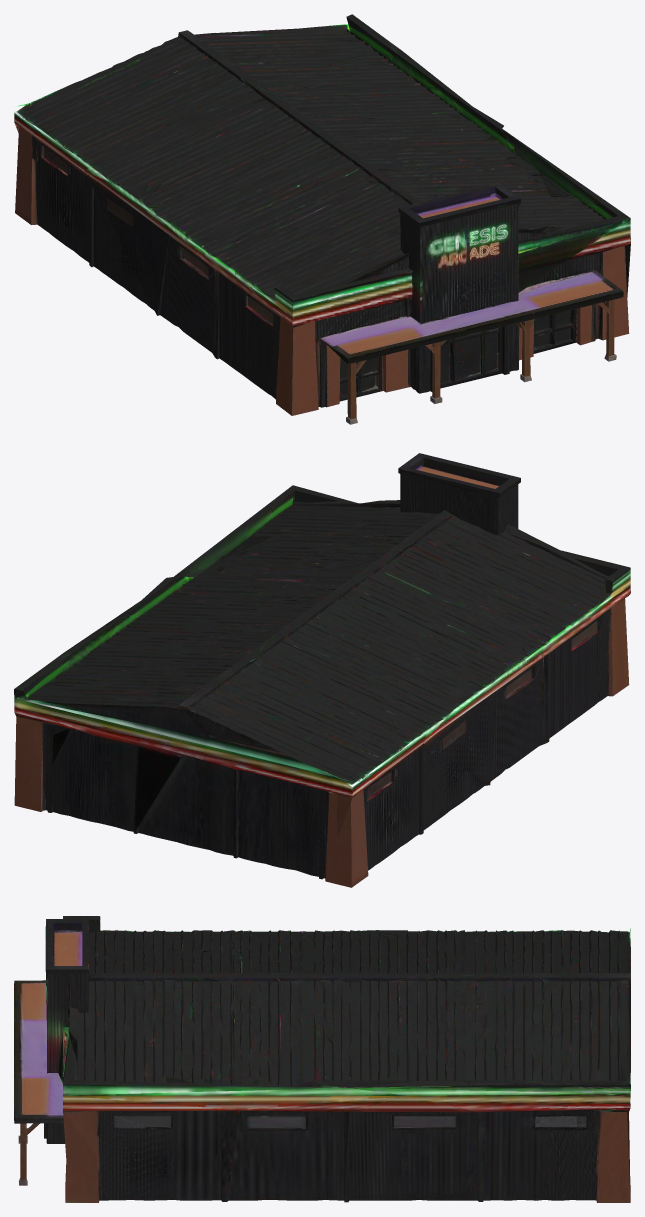
File: arcade.glb
3 renders of one model, top to bottom at view 1: azimuth 30°, elevation 25°; view 2: azimuth 150°, elevation 25°; view 3: azimuth 270°, elevation 25°, orthographic.
Visible parts, largest first — view 1: Mesh_0; view 2: Mesh_0; view 3: Mesh_0.
Part boxes in pixels (x1,y1,x2,y2): Mesh_0: (14, 14, 630, 424); Mesh_0: (14, 453, 630, 887); Mesh_0: (14, 916, 630, 1202).
Size of the model in its own units: 1.23 by 0.5955 by 1.9.
1 material, 1 textured.
